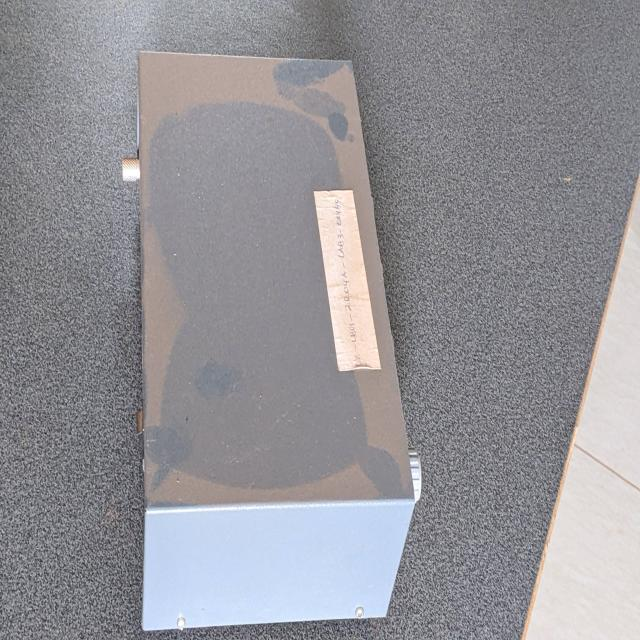A 200KHZ Function Generator: (118, 44, 424, 631)
